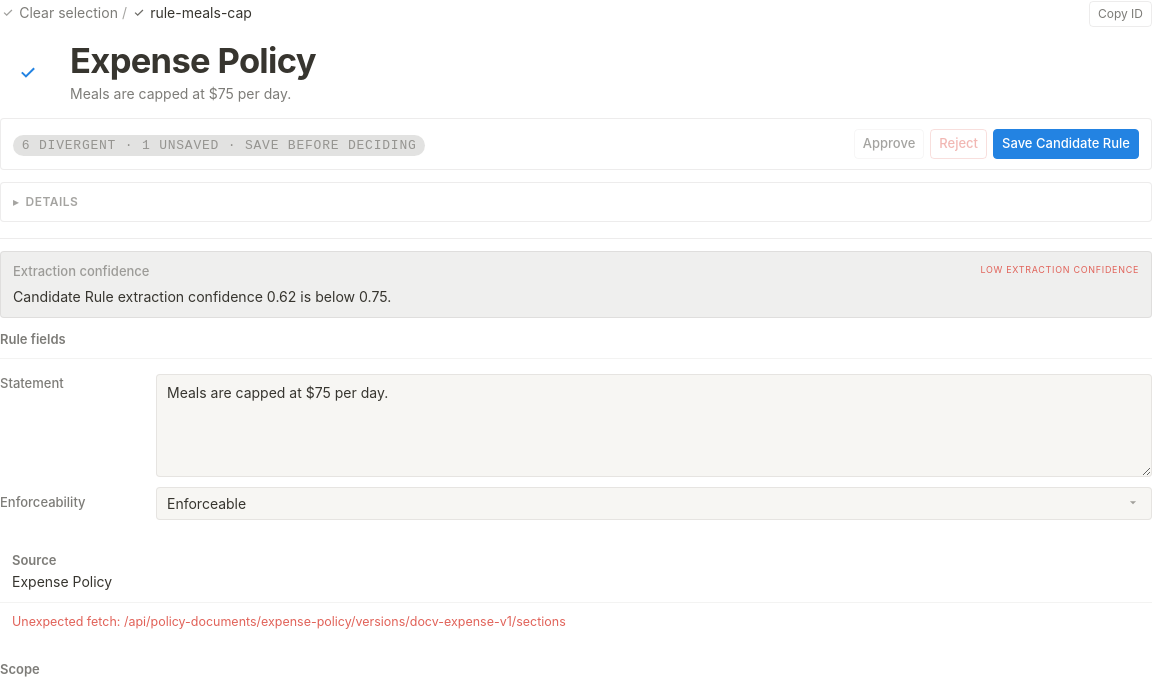
Test: CandidateRuleDetail › surfaces validation errors from the API
The image size is (1152, 686).
Check: the text box showing "Meals are capped at $75 per day." is shown, box [156, 374, 1151, 477]
Click the button named "Open Enforceability class list".
click(1133, 503)  # box [1121, 491, 1145, 515]
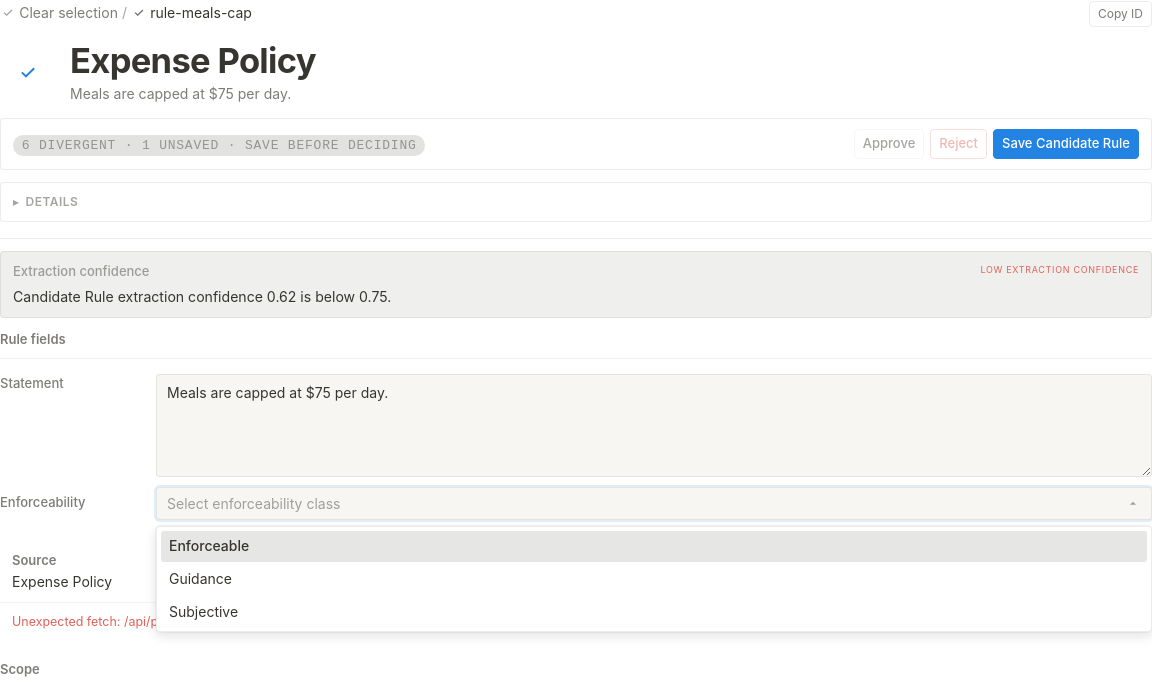
Click the option "Guidance".
click(200, 578)  # box [169, 570, 232, 587]
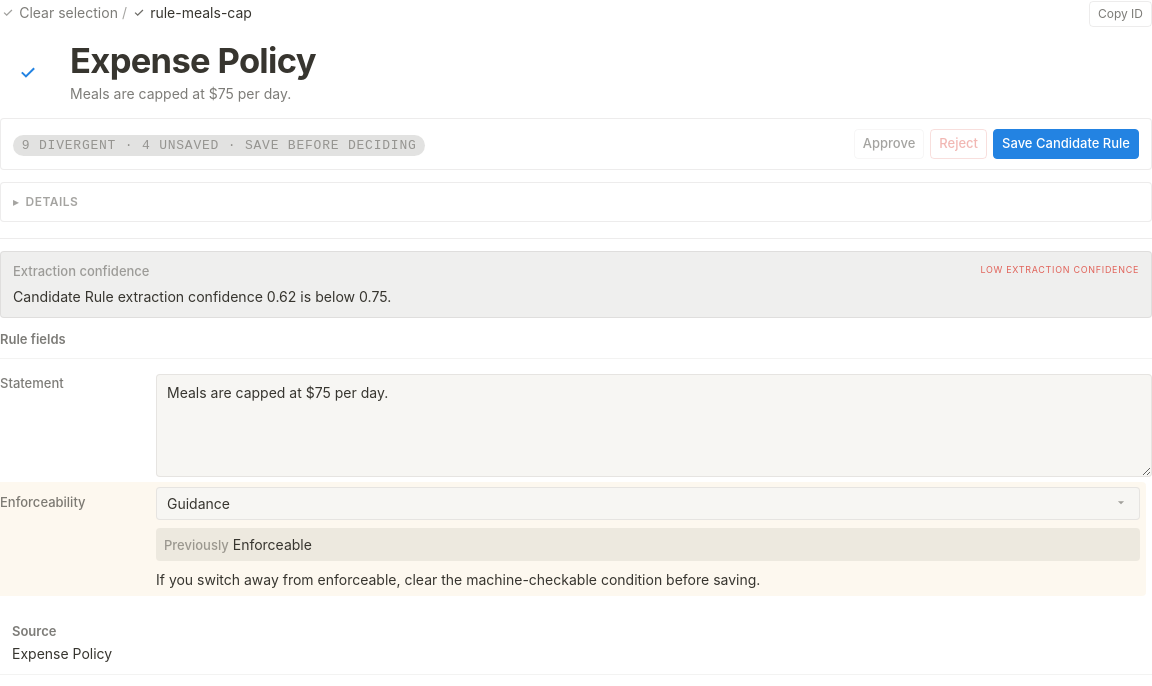
Click the button "Save Candidate Rule".
click(1066, 144)  # box [993, 130, 1139, 159]
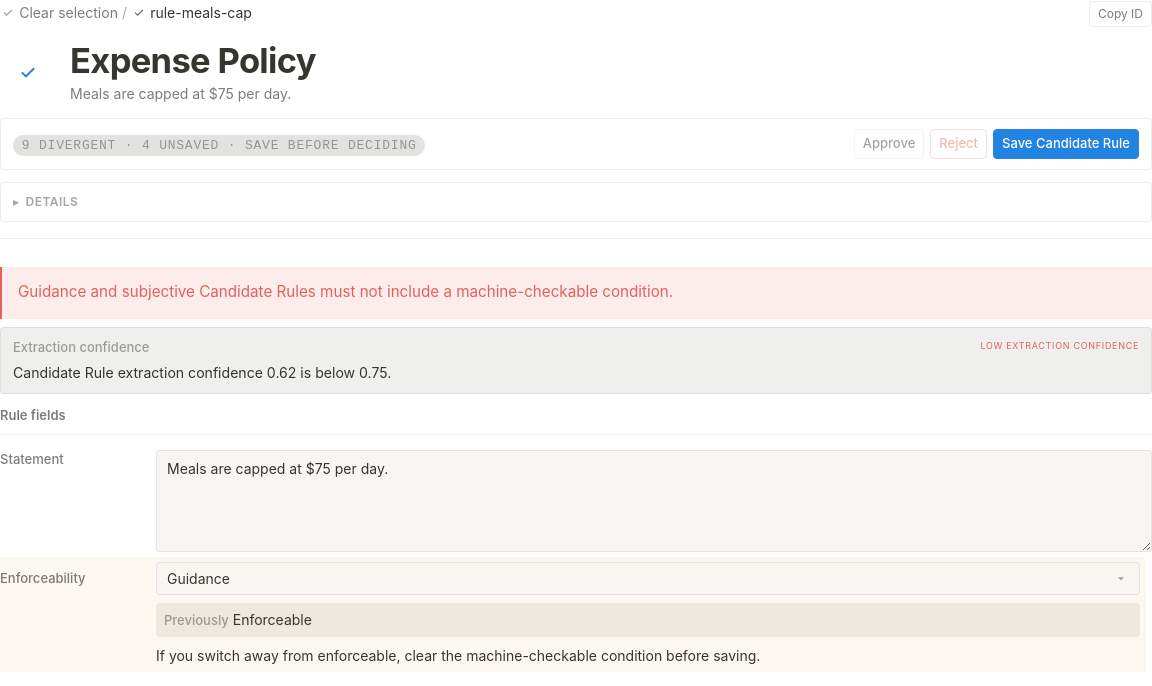
Check: the text "Guidance and subjective Candidate Rules must not include a machine-checkable condition." is shown, box [18, 282, 673, 301]
